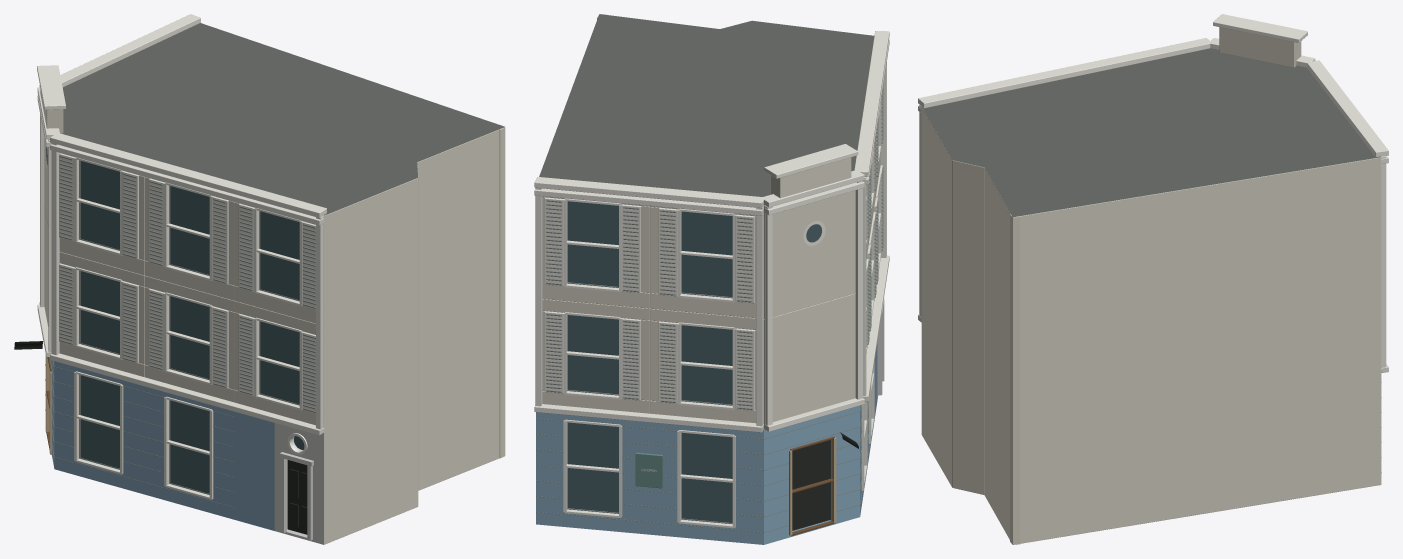
The model's file is 49l-exterior-f5f49b88d815.glb.
3 renders of one model, left to right at view 1: azimuth 30°, elevation 25°; view 2: azimuth 150°, elevation 25°; view 3: azimuth 270°, elevation 25°, orthographic. The views are drawn at different scales.
Parts seen in each view (by area): view 1: 49L.001; view 2: 49L.001; view 3: 49L.001.
Part boxes in pixels (x1,y1,x2,y2): 49L.001: [14, 14, 505, 544]; 49L.001: [534, 14, 889, 544]; 49L.001: [918, 14, 1388, 544].
Bounding box in the file's own units: 12.79 × 11.91 × 14.19.
